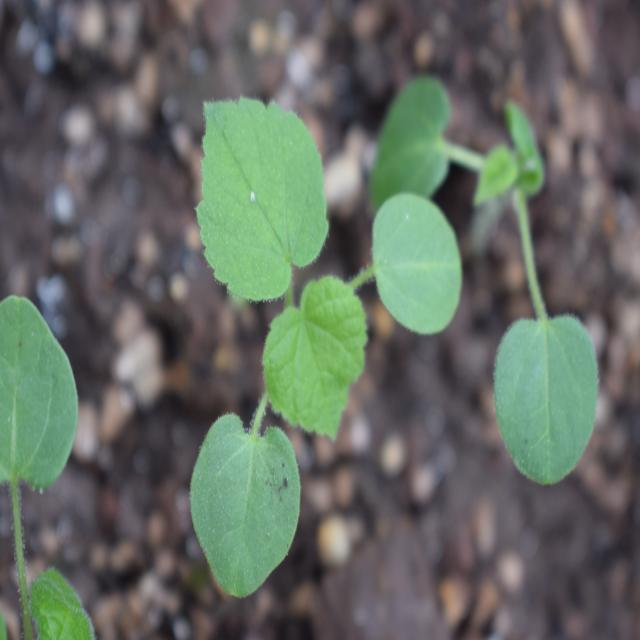abutilon theophrasti: (137, 93, 473, 569)
